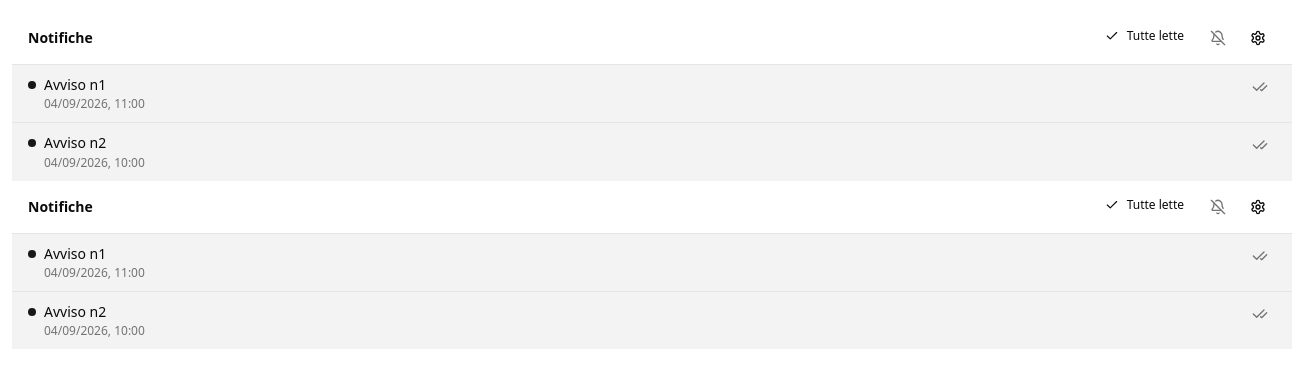
Test: due campanelle aperte sulla stessa cosa › cliccando la riga il pannello si chiude, e l'altro si aggiorna lo stesso
This screenshot has width=1292, height=366.
Expected: the number of buttons named "Segna come letta" is 4, [1244,71,1276,103]; [1244,129,1276,161]; [1244,240,1276,272]; [1244,298,1276,330]
Click the 1st text "Avviso n1" at (75, 84), box [44,75,106,94]
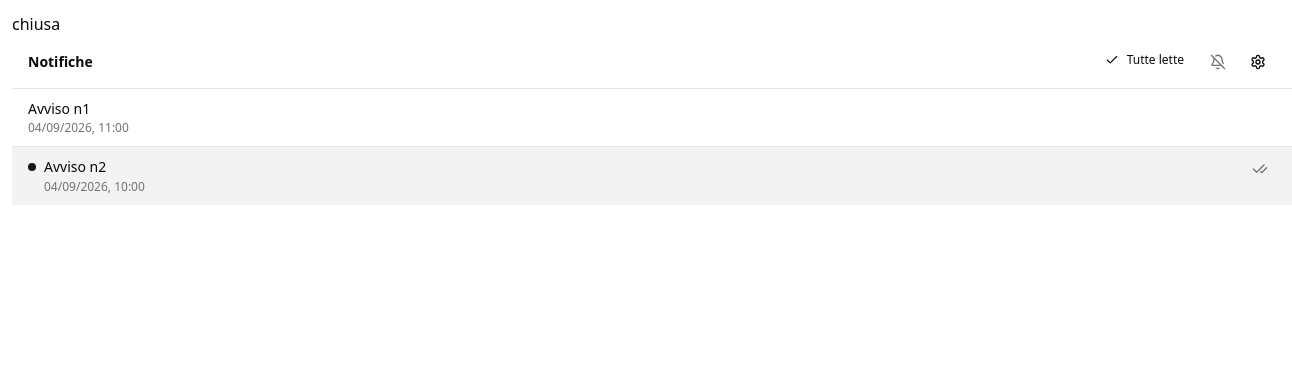
Now the text "chiusa" is shown, box [12,13,60,35]
Now the number of buttons named "Segna come letta" is 1, box [1244,153,1276,185]
